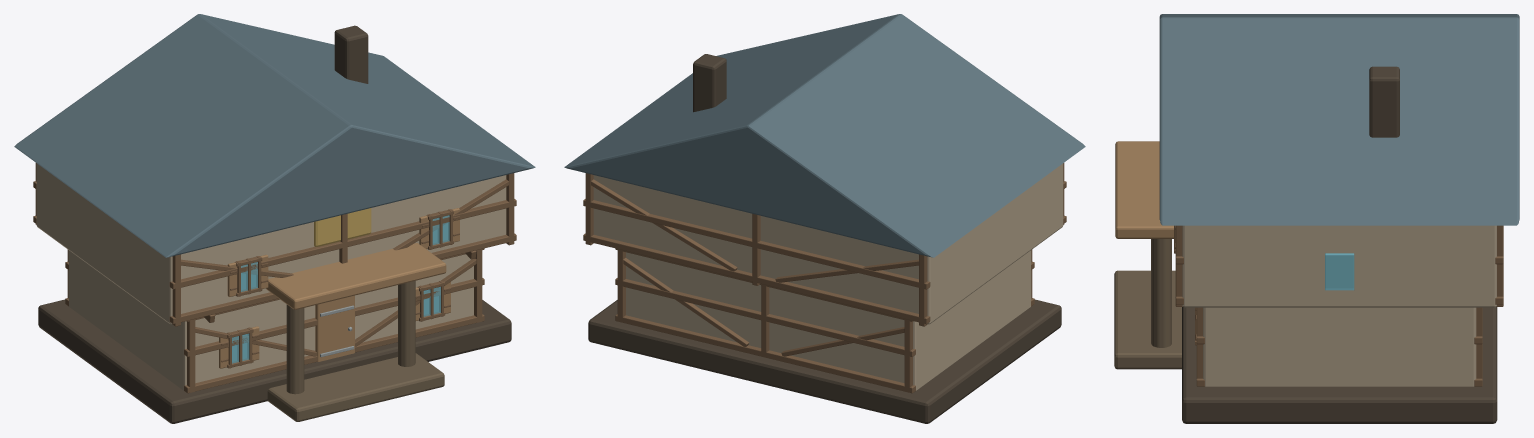
The model's file is guild_hall.glb.
The picture shows the model from 3 angles, left to right: view 1: azimuth 30°, elevation 25°; view 2: azimuth 150°, elevation 25°; view 3: azimuth 270°, elevation 25°; orthographic projection. The views are drawn at different scales.
Parts seen in each view (by area): view 1: Roof, OverhangingUpperFloor, GroundFloor, StoneFoundation, GuildSteps, GuildPortico, TimberBeam.008, INTERACT_Door, TimberBeam, Chimney, TimberBeam.002, TimberBeam.006 (+11 smaller); view 2: Roof, OverhangingUpperFloor, GroundFloor, StoneFoundation, TimberBeam.007, TimberBeam.009, TimberBeam.003, TimberBeam.001, Chimney, DiagonalBrace.007, DiagonalBrace.003, DiagonalBrace.005 (+8 smaller); view 3: Roof, OverhangingUpperFloor, GroundFloor, StoneFoundation, GuildSteps, GuildPortico, GuildColumn.001, Chimney, WindowGlass.005, TimberPost.010, TimberPost.011, TimberPost.005 (+1 smaller).
Boxes of the visible parts, x1,y1,x2,y2 form: Roof: (14,14,535,257); OverhangingUpperFloor: (36,163,506,324); GroundFloor: (68,250,473,390); StoneFoundation: (38,299,511,423); GuildSteps: (267,353,444,421); GuildPortico: (266,243,446,309); TimberBeam.008: (169,199,516,289); INTERACT_Door: (315,295,354,361); TimberBeam: (184,314,484,393); Chimney: (334,25,368,83); TimberBeam.002: (184,278,484,356); TimberBeam.006: (169,233,516,324); Roof: (564,14,1085,257); OverhangingUpperFloor: (593,163,1063,324); GroundFloor: (626,250,1031,390); StoneFoundation: (588,299,1061,423); TimberBeam.007: (583,233,930,324); TimberBeam.009: (583,199,930,289); TimberBeam.003: (615,278,915,356); TimberBeam.001: (615,314,915,393); Chimney: (693,54,726,112); DiagonalBrace.007: (591,179,737,271); DiagonalBrace.003: (623,258,748,346); DiagonalBrace.005: (775,259,918,282); Roof: (1159,14,1519,225); OverhangingUpperFloor: (1182,225,1496,307); GroundFloor: (1203,307,1476,386); StoneFoundation: (1182,307,1497,423); GuildSteps: (1114,270,1181,369); GuildPortico: (1115,141,1173,238); GuildColumn.001: (1151,239,1171,347); Chimney: (1369,66,1399,137); WindowGlass.005: (1325,253,1354,290); TimberPost.010: (1175,225,1182,306); TimberPost.011: (1496,225,1503,306); TimberPost.005: (1476,307,1482,378).
Bounding box in the file's own units: 11.65 × 8 × 9.45.
